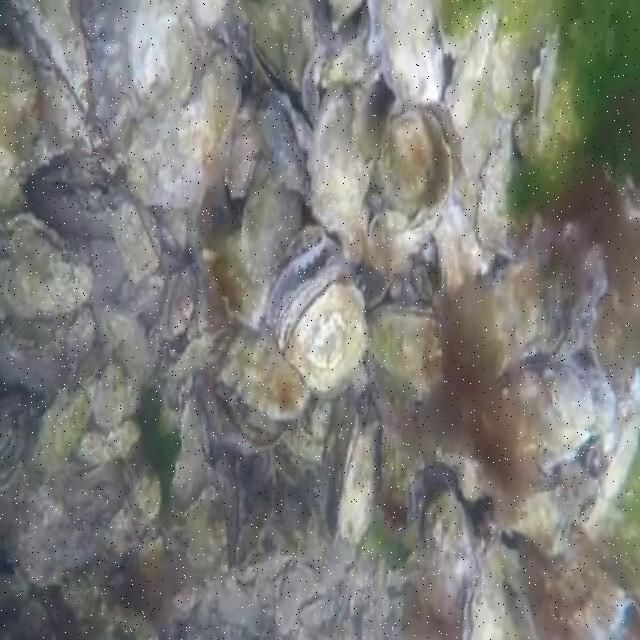Oyster-Closed: (96, 0, 228, 154), (126, 50, 240, 210), (0, 0, 86, 175), (475, 118, 536, 260), (311, 84, 369, 227), (244, 157, 306, 283), (366, 305, 445, 394), (420, 493, 473, 620), (203, 227, 270, 323), (0, 42, 36, 215), (34, 377, 95, 473), (337, 413, 378, 543), (379, 426, 419, 523), (568, 243, 606, 344), (463, 545, 504, 638), (115, 201, 163, 280), (492, 34, 533, 116), (532, 29, 557, 157), (0, 396, 32, 486), (94, 365, 143, 422), (226, 121, 260, 197), (437, 0, 480, 60), (224, 477, 250, 564), (602, 159, 638, 220), (118, 274, 159, 320), (66, 308, 96, 370), (515, 109, 531, 157)
Oyster-Open: (268, 229, 366, 392), (217, 319, 308, 444), (0, 216, 95, 321), (387, 97, 466, 209), (246, 0, 315, 128), (367, 0, 444, 105), (257, 93, 313, 192), (558, 335, 603, 376), (0, 413, 15, 455)
